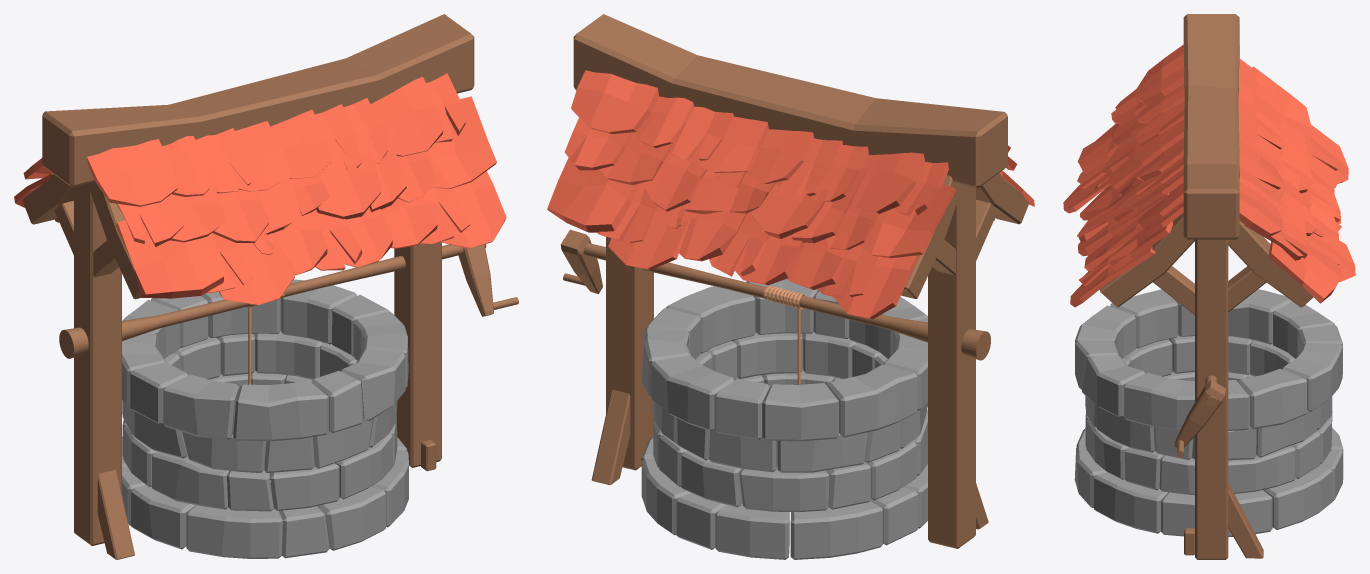
Rendered from kuyu-1.fbx.
The picture shows the model from 3 angles, left to right: view 1: azimuth 30°, elevation 25°; view 2: azimuth 150°, elevation 25°; view 3: azimuth 270°, elevation 25°; orthographic projection. The views are drawn at different scales.
Parts seen in each view (by area): view 1: Plane.027, Cube.003, Cube.006, Cube.002, Cube, Cube.004, Cube.001, Cube.005, Cylinder, Cube.017, Cube.012, Cube.020 (+3 smaller); view 2: Plane.002, Cube.003, Cube.006, Cube.002, Cube.004, Cube, Cube.001, Cube.005, Cylinder, Cube.018, Cube.009, Cube.012 (+3 smaller); view 3: Cube.003, Plane.027, Plane.002, Cube.006, Cube, Cube.005, Cube.002, Cube.001, Cube.014, Cube.007, Cube.020, Cube.018 (+2 smaller).
Boxes of the visible parts, x1,y1,x2,y2 form: Plane.027: (87, 73, 506, 304); Cube.003: (122, 279, 408, 441); Cube.006: (42, 14, 474, 187); Cube.002: (122, 330, 397, 472); Cube: (122, 437, 408, 558); Cube.004: (74, 183, 121, 545); Cube.001: (122, 369, 397, 511); Cube.005: (394, 242, 441, 467); Cylinder: (59, 244, 486, 358); Cube.017: (97, 470, 134, 559); Cube.012: (87, 181, 141, 299); Cube.020: (458, 244, 493, 316); Plane.002: (547, 70, 955, 319); Cube.003: (641, 279, 927, 441); Cube.006: (573, 14, 1007, 188); Cube.002: (652, 332, 927, 472); Cube.004: (928, 185, 975, 548); Cube: (641, 437, 927, 559); Cube.001: (653, 367, 927, 511); Cube.005: (606, 237, 653, 470); Cylinder: (563, 239, 990, 360); Cube.018: (591, 389, 630, 485); Cube.009: (901, 175, 962, 298); Cube.012: (976, 173, 1029, 224); Cube.003: (1075, 289, 1342, 430); Plane.027: (1063, 44, 1184, 307); Plane.002: (1238, 58, 1355, 303); Cube.006: (1183, 14, 1239, 239); Cube: (1074, 427, 1343, 537); Cube.005: (1195, 239, 1228, 559); Cube.002: (1085, 335, 1332, 460); Cube.001: (1085, 371, 1332, 494); Cube.014: (1100, 213, 1194, 307); Cube.007: (1228, 221, 1313, 307); Cube.020: (1174, 380, 1225, 447); Cube.018: (1228, 482, 1263, 558).
Bounding box in the file's own units: 2314 × 2121 × 1467.
